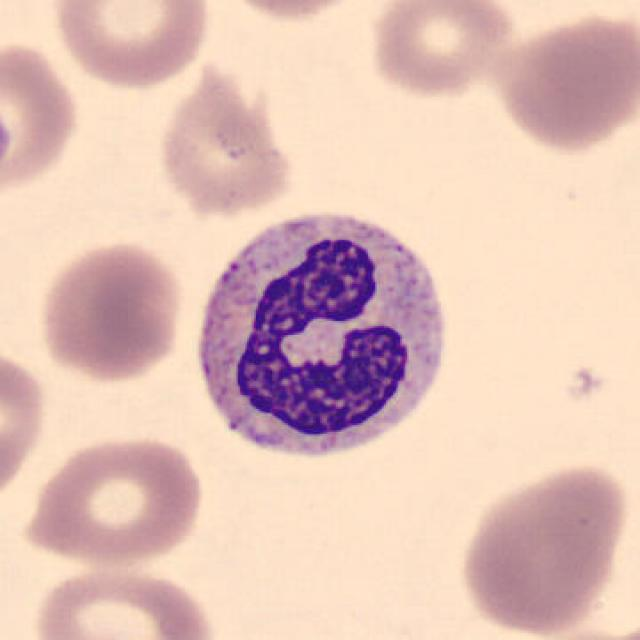Neutrophil: (183, 195, 461, 478)
RBC: (453, 457, 633, 638), (16, 430, 210, 570), (153, 56, 299, 220), (34, 236, 188, 386), (491, 7, 638, 155), (364, 0, 519, 102), (46, 0, 215, 92), (27, 562, 220, 640), (0, 35, 85, 200), (0, 340, 52, 515), (207, 0, 380, 26)
